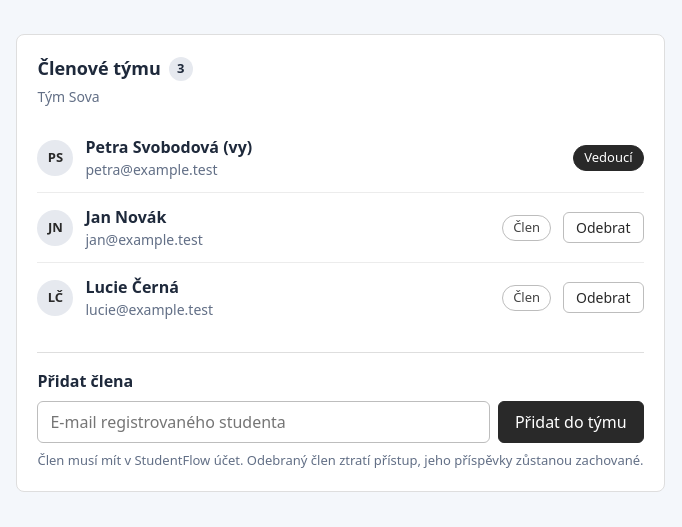
Test: ProjectMembers messages › shows only the result of the last action: removal replaces the add confirmation
In the field labelled "E-mail registrovaného studenta": (264, 422) [38,401,490,443], type "lucie@example.test"
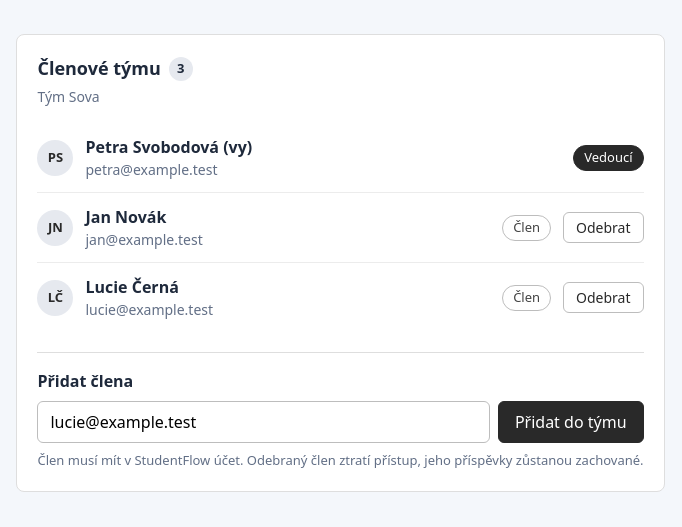
Submit the form, box [38,352,644,471]
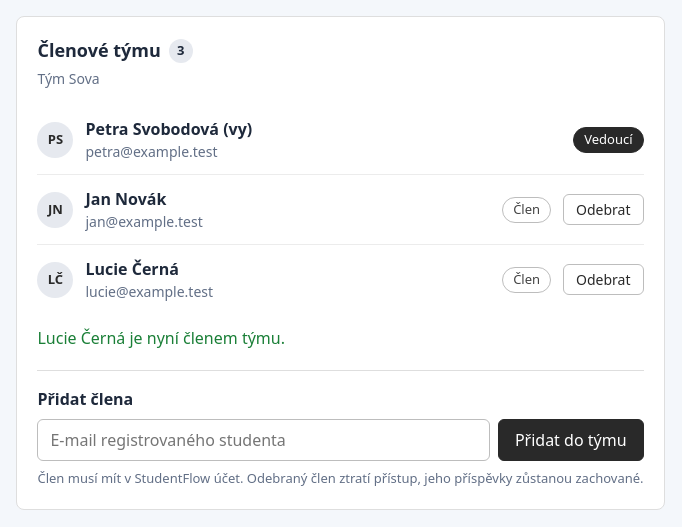
expect the message reads "Lucie Černá je nyní členem týmu.": met, box [38,327,285,349]
Click the button "Odebrat" in the row of "LČ": (603, 280) [563,264,644,295]
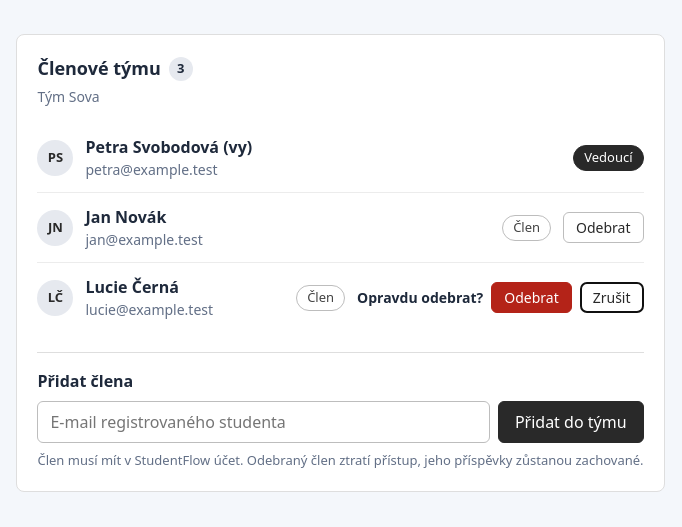
expect the message "Lucie Černá je nyní členem týmu." is gone: met
Click the button "Odebrat" next to "Opravdu odebrat?": (531, 298) [491,282,572,313]
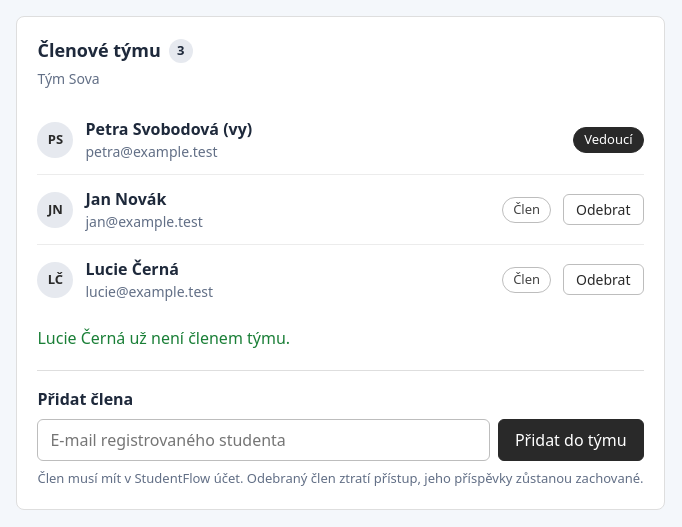
expect the number of messages is 1: met, box [38,327,290,349]
expect the message reads "Lucie Černá už není členem týmu.": met, box [38,327,290,349]
